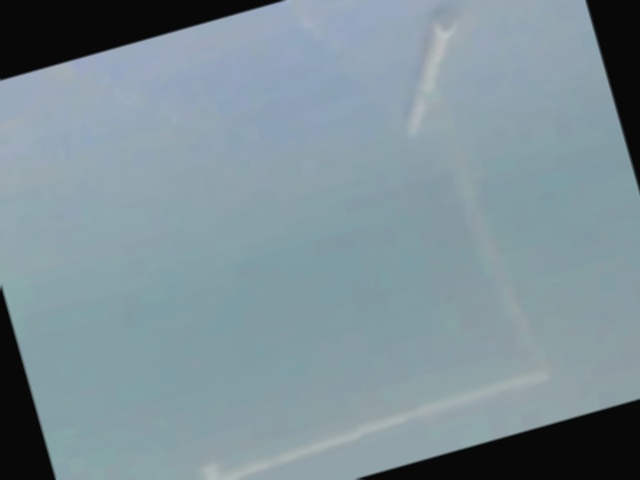gate: (80, 7, 572, 480)
